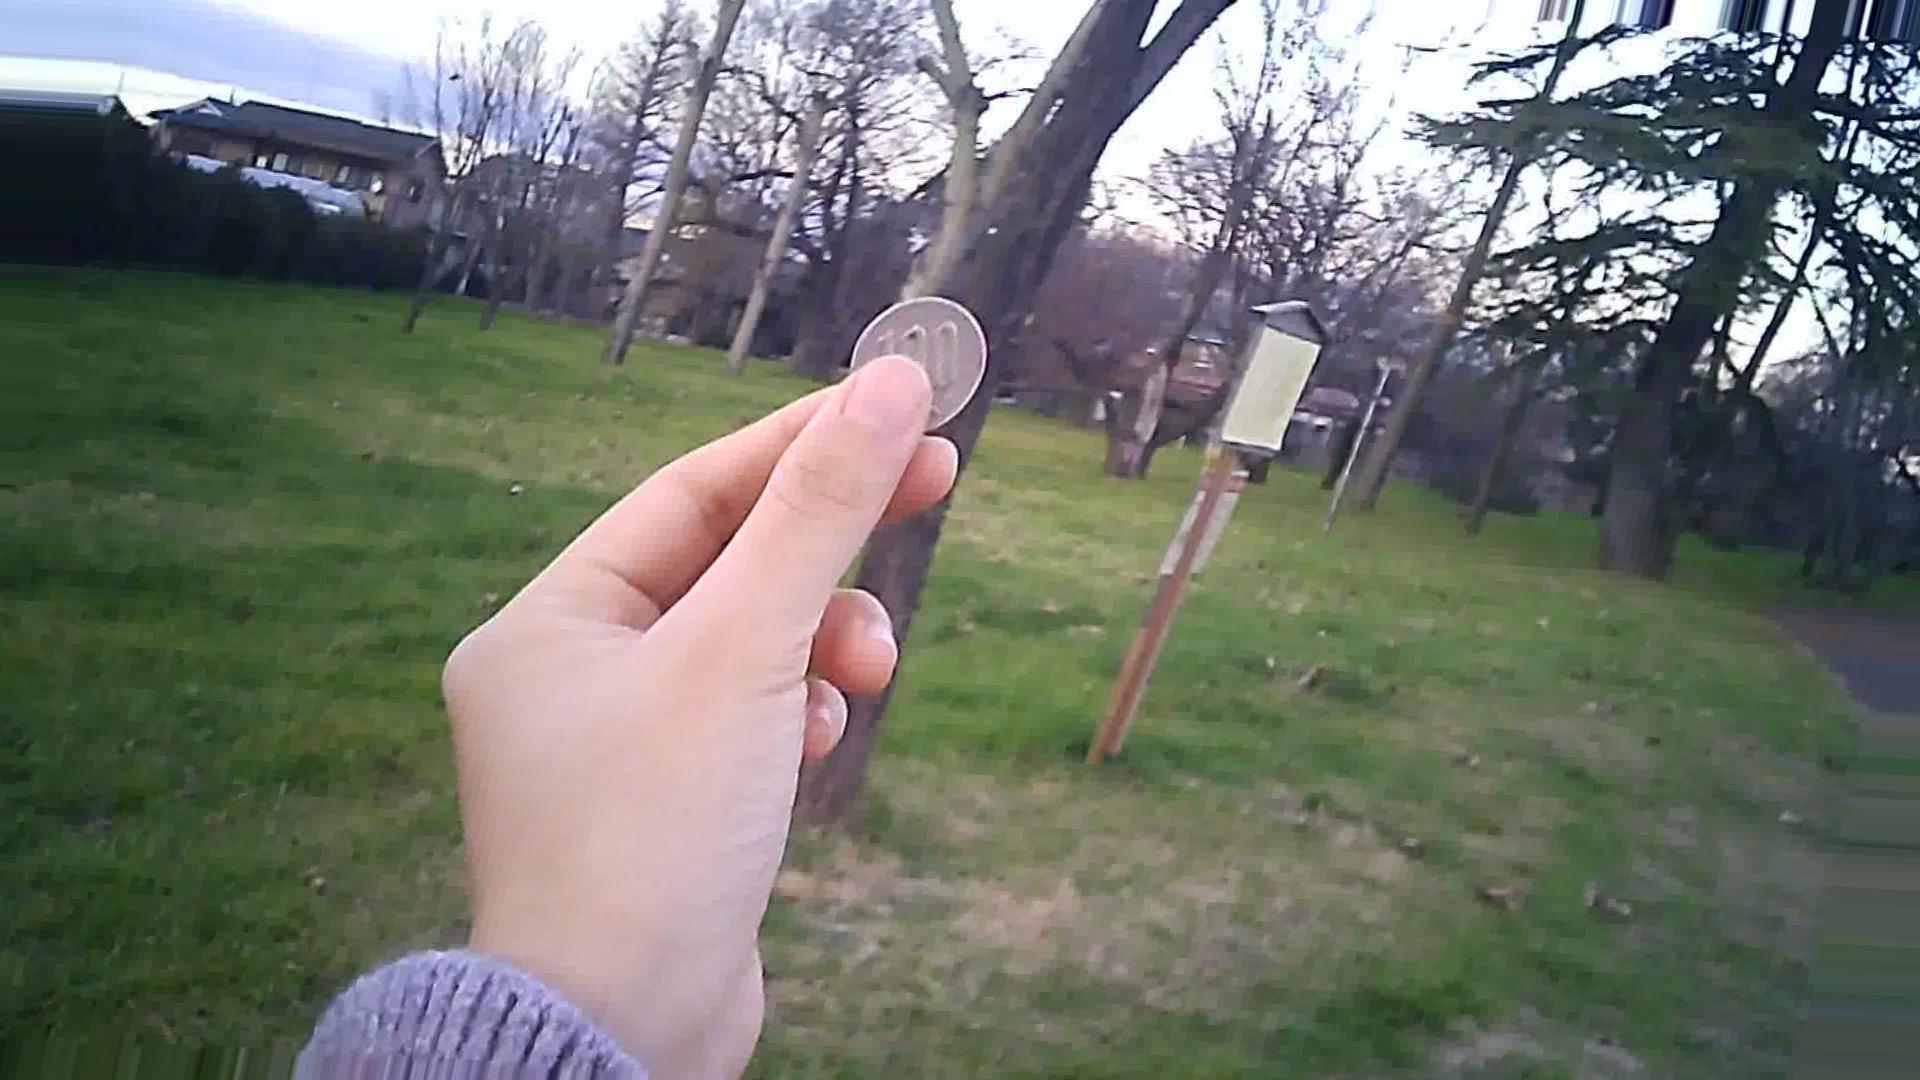100 Yen: (848, 291, 997, 434)
